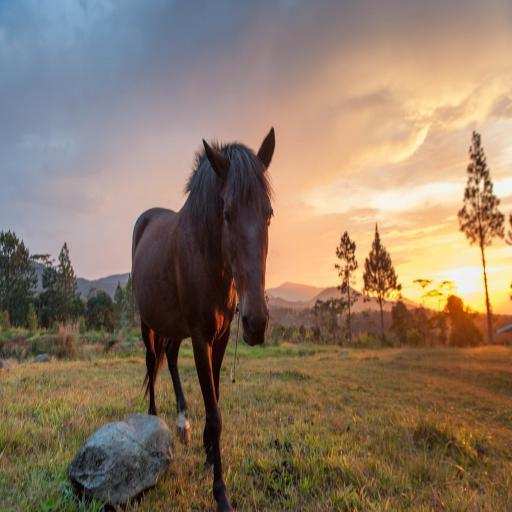horse: (127, 121, 276, 512)
